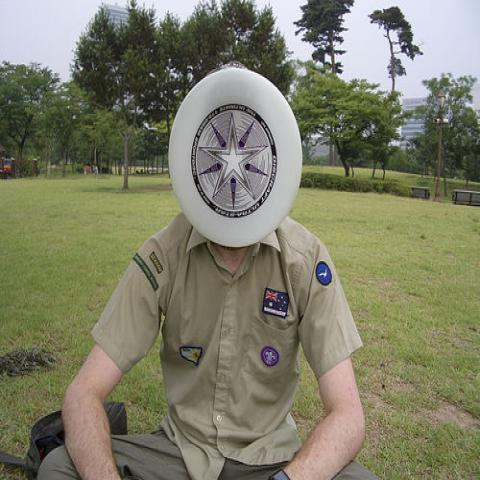car: (4, 159, 12, 176)
